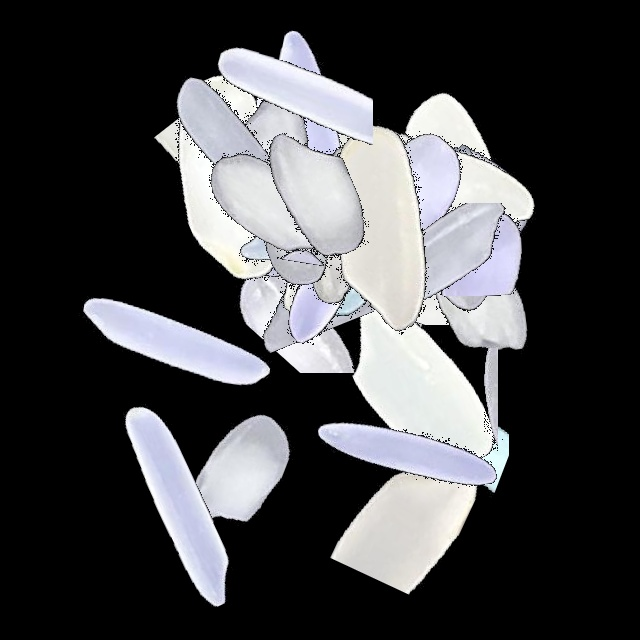Broken: (328, 378, 498, 628), (156, 402, 406, 569), (346, 203, 596, 370), (355, 140, 605, 296), (217, 18, 373, 268), (272, 38, 419, 288), (203, 226, 453, 373), (231, 80, 376, 330), (232, 138, 374, 388), (311, 184, 561, 325), (266, 141, 516, 277), (382, 318, 509, 568), (90, 104, 340, 220), (302, 170, 552, 283), (283, 184, 533, 291), (320, 348, 570, 452), (254, 0, 356, 250), (408, 98, 510, 348), (203, 180, 453, 266)
Full: (302, 166, 552, 416), (336, 64, 586, 314), (171, 97, 421, 347), (192, 67, 442, 317), (52, 216, 302, 466), (348, 71, 598, 321), (190, 5, 440, 255), (350, 165, 600, 415), (292, 262, 542, 512), (294, 72, 544, 322), (139, 93, 389, 343), (247, 123, 497, 373), (105, 53, 355, 303), (218, 96, 468, 346), (147, 29, 397, 279), (219, 133, 469, 383), (319, 126, 569, 376), (213, 113, 463, 363), (312, 66, 562, 316), (228, 110, 478, 360), (215, 96, 465, 346), (217, 61, 467, 311), (290, 65, 540, 315), (211, 72, 461, 322), (178, 96, 428, 346), (281, 330, 531, 580), (262, 101, 512, 351), (105, 10, 355, 260), (57, 380, 307, 630), (149, 80, 399, 330), (193, 65, 443, 315)
